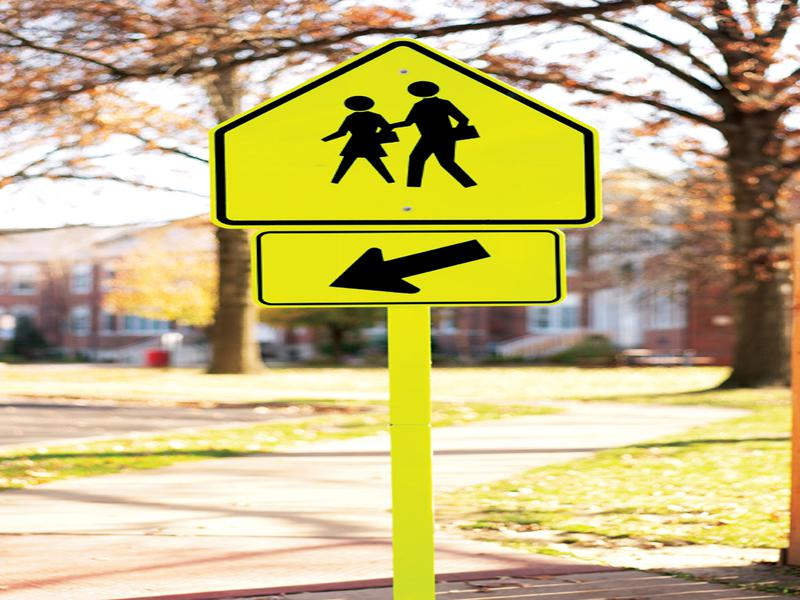slow: (211, 41, 607, 231)
